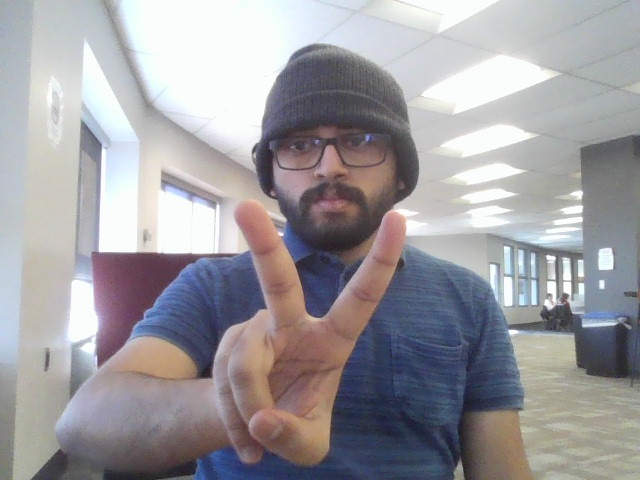start: (209, 191, 412, 474)
